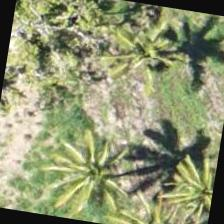Kelapa_Sawit: (44, 124, 148, 223), (82, 0, 186, 98), (136, 137, 219, 223)
